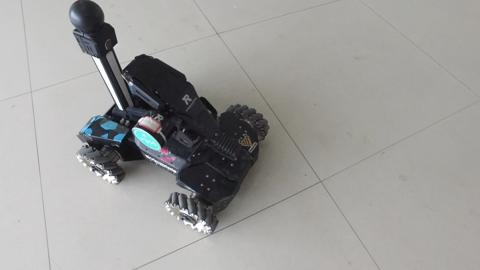chariot: (48, 19, 262, 223)
